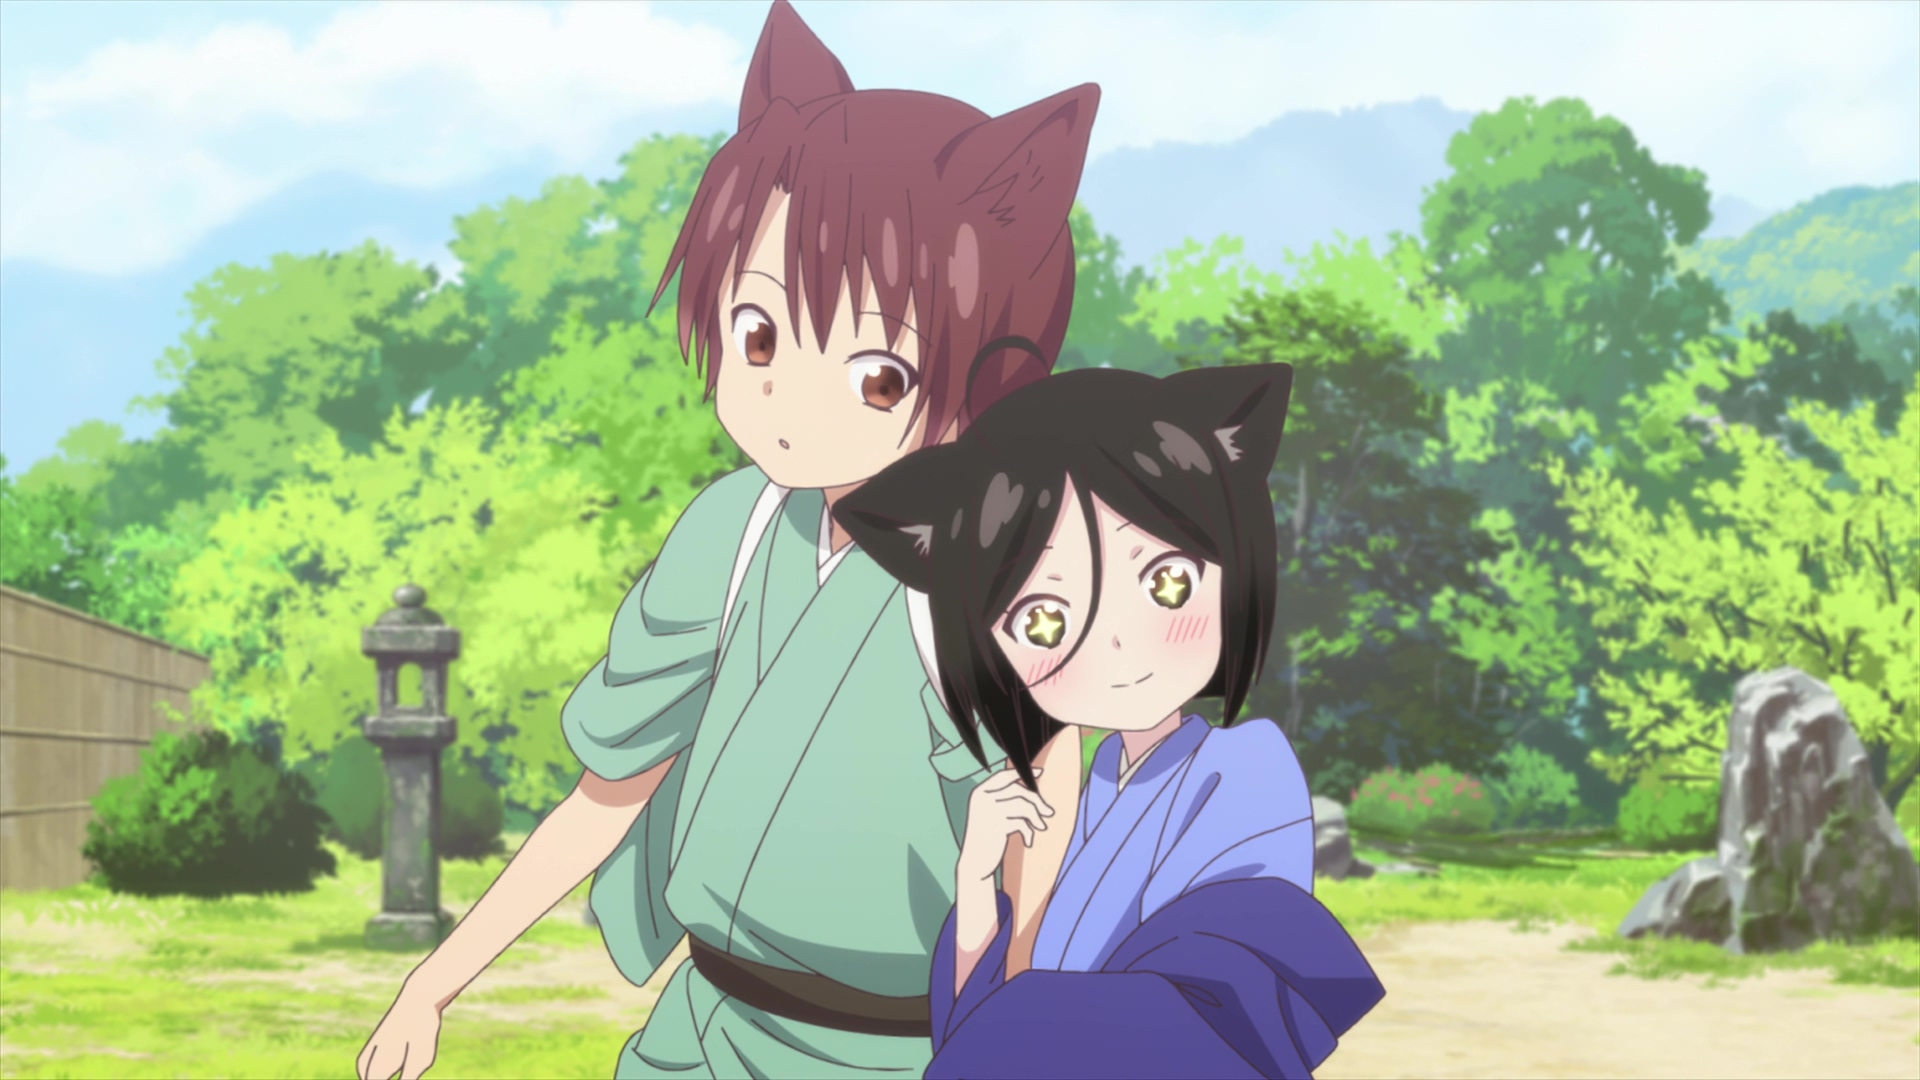其他: (833, 338, 1385, 1080)
枣: (352, 1, 1102, 1080)
